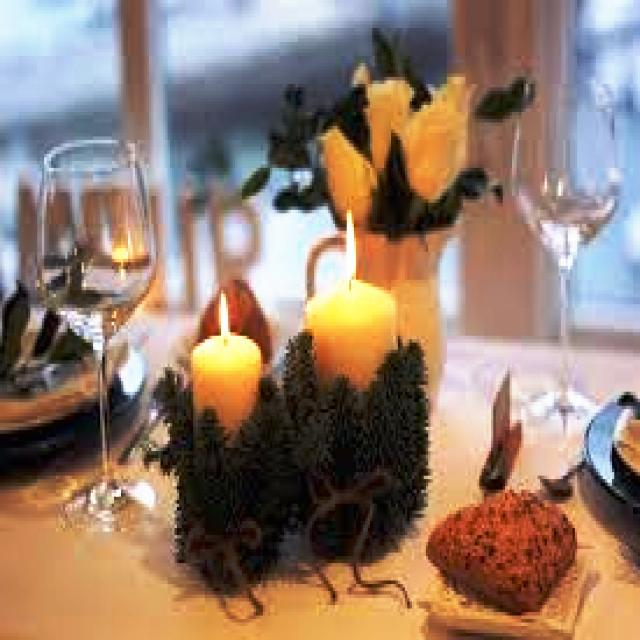api: (338, 208, 362, 278), (215, 288, 234, 347)
